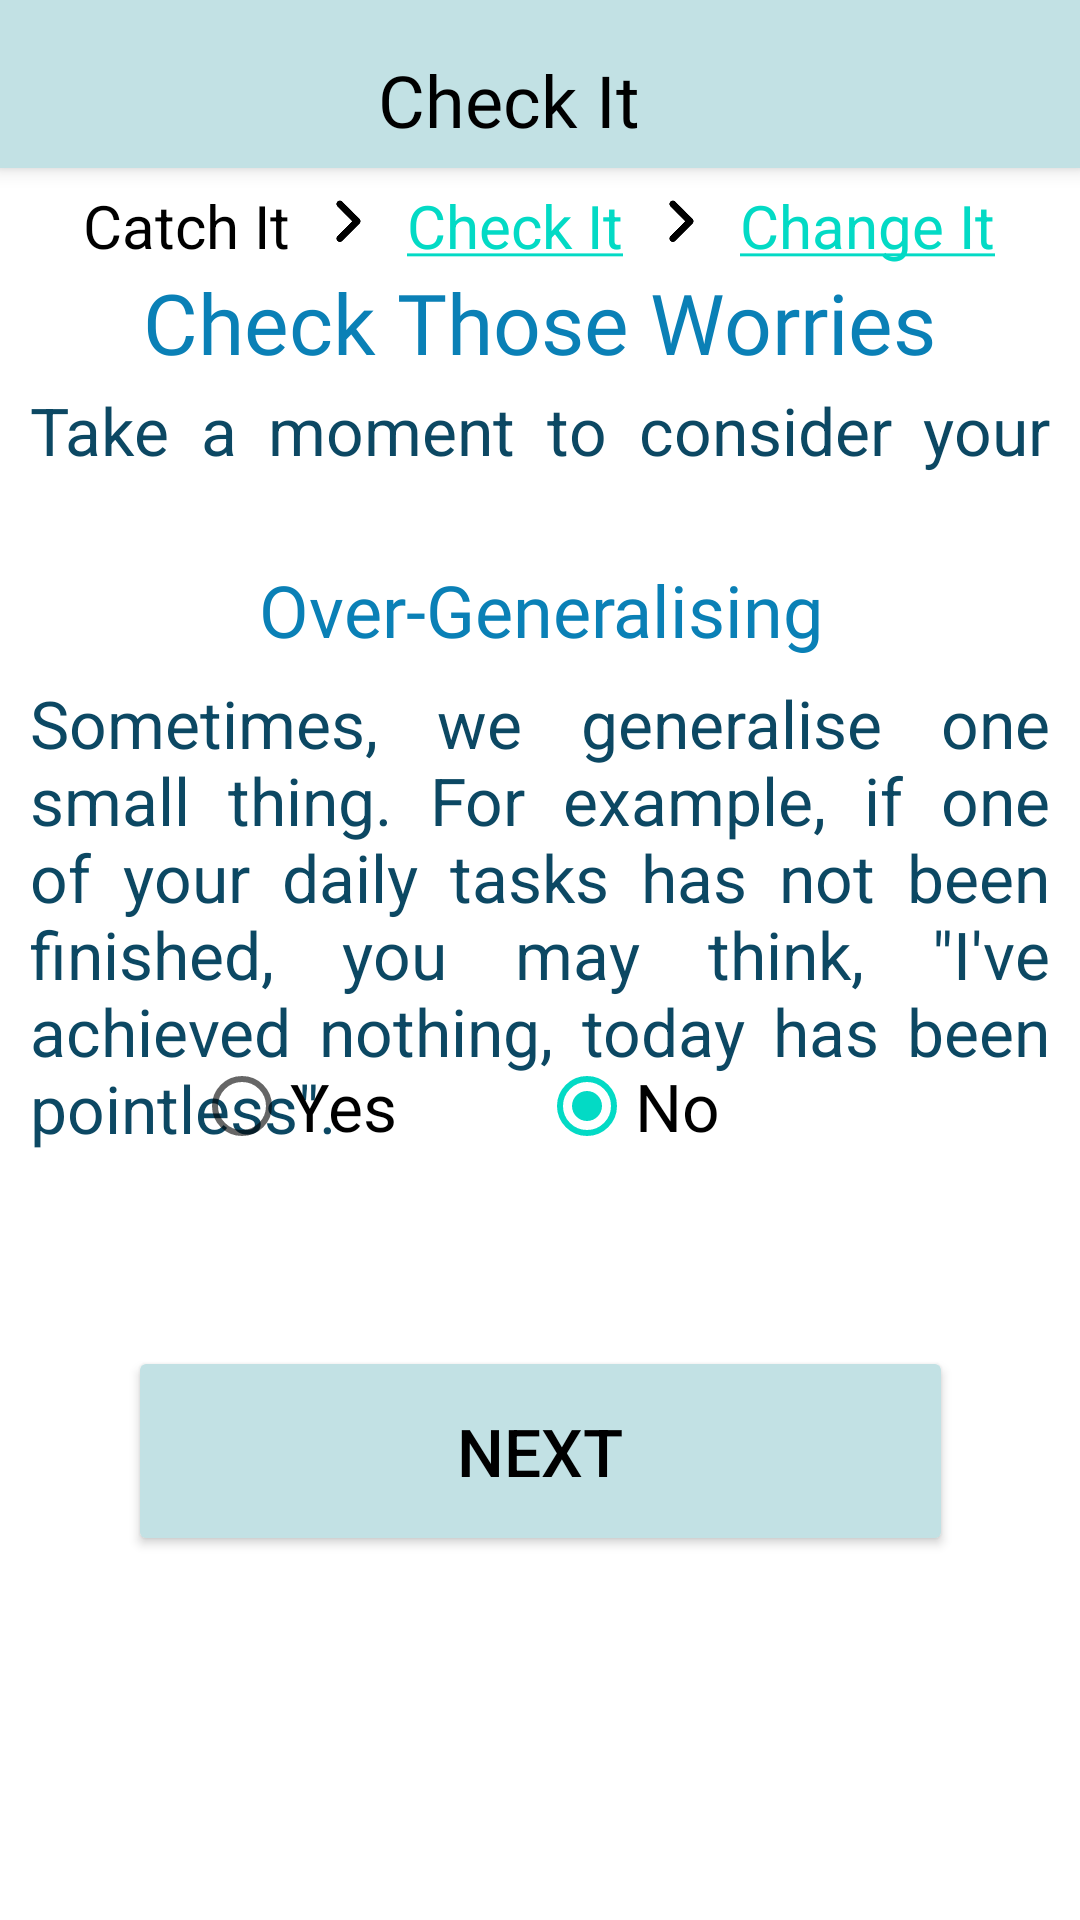

Screen size 1080px x 1920px. Icon name, then its center in pixels as (x=x, y=y):
right: (x=348, y=221), (x=681, y=221)
